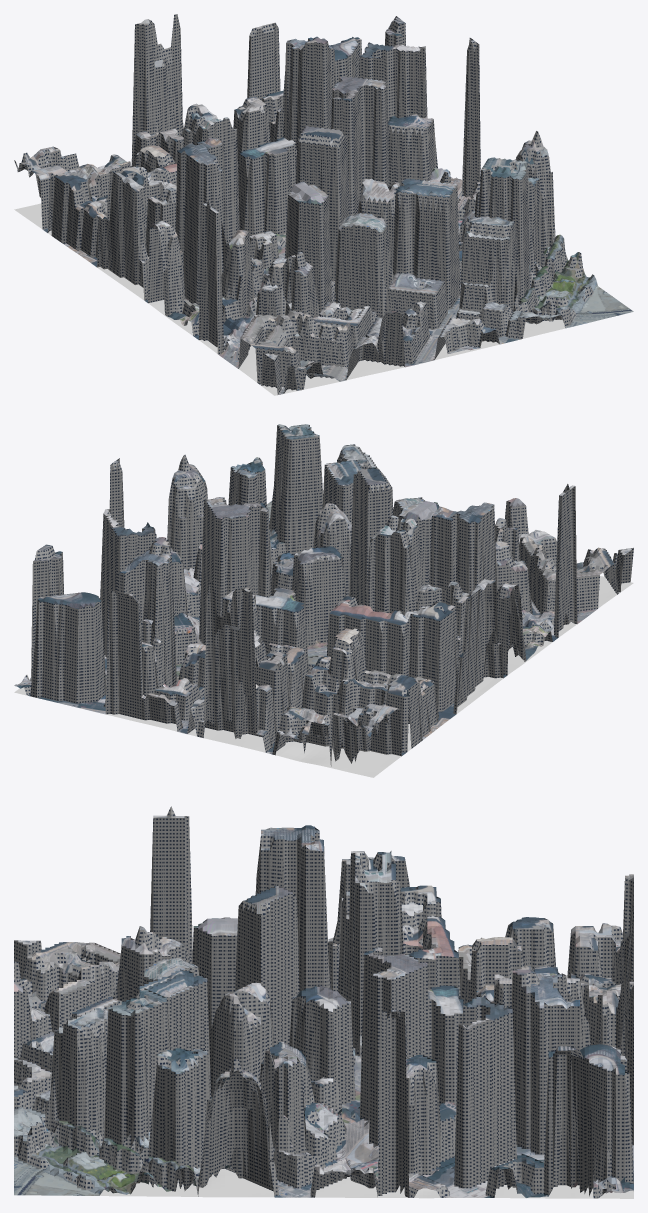
File: fidi-world.glb
The picture shows the model from 3 angles, top to bottom: view 1: azimuth 30°, elevation 25°; view 2: azimuth 150°, elevation 25°; view 3: azimuth 270°, elevation 25°; orthographic projection. The views are drawn at different scales.
Visible parts, largest first — view 1: terrain, ground; view 2: terrain, ground; view 3: terrain, ground.
Boxes of the visible parts, box(x1,y1,x2,y2) form: terrain: box(14, 14, 633, 394); ground: box(14, 203, 565, 395); terrain: box(14, 424, 633, 766); ground: box(14, 576, 633, 777); terrain: box(14, 806, 633, 1198); ground: box(99, 1169, 633, 1198).
Size of the model in its own units: 440 by 203 by 552.
Materials: 2 (2 with a texture image).
